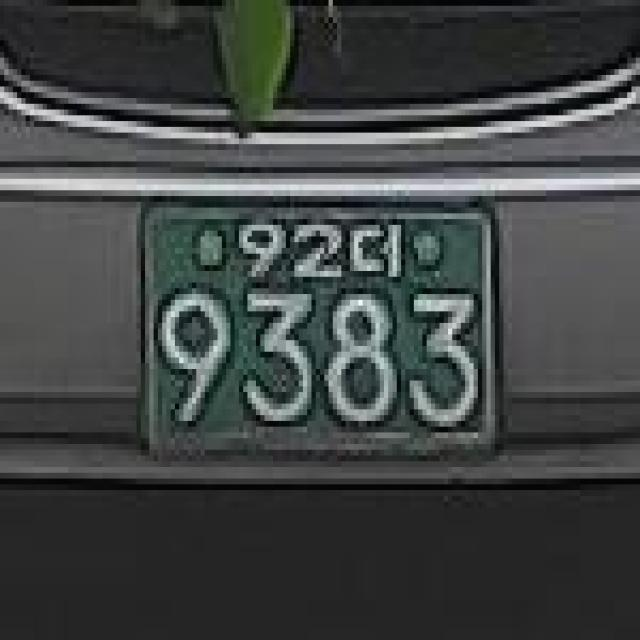illegal_plate: (127, 177, 519, 478)
